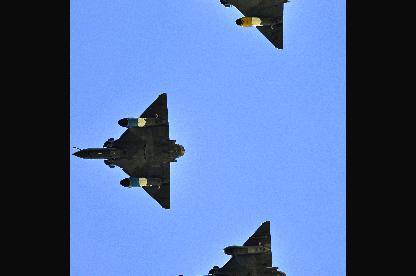Mirage2000: (72, 92, 184, 208), (178, 219, 287, 275), (189, 0, 297, 48)
